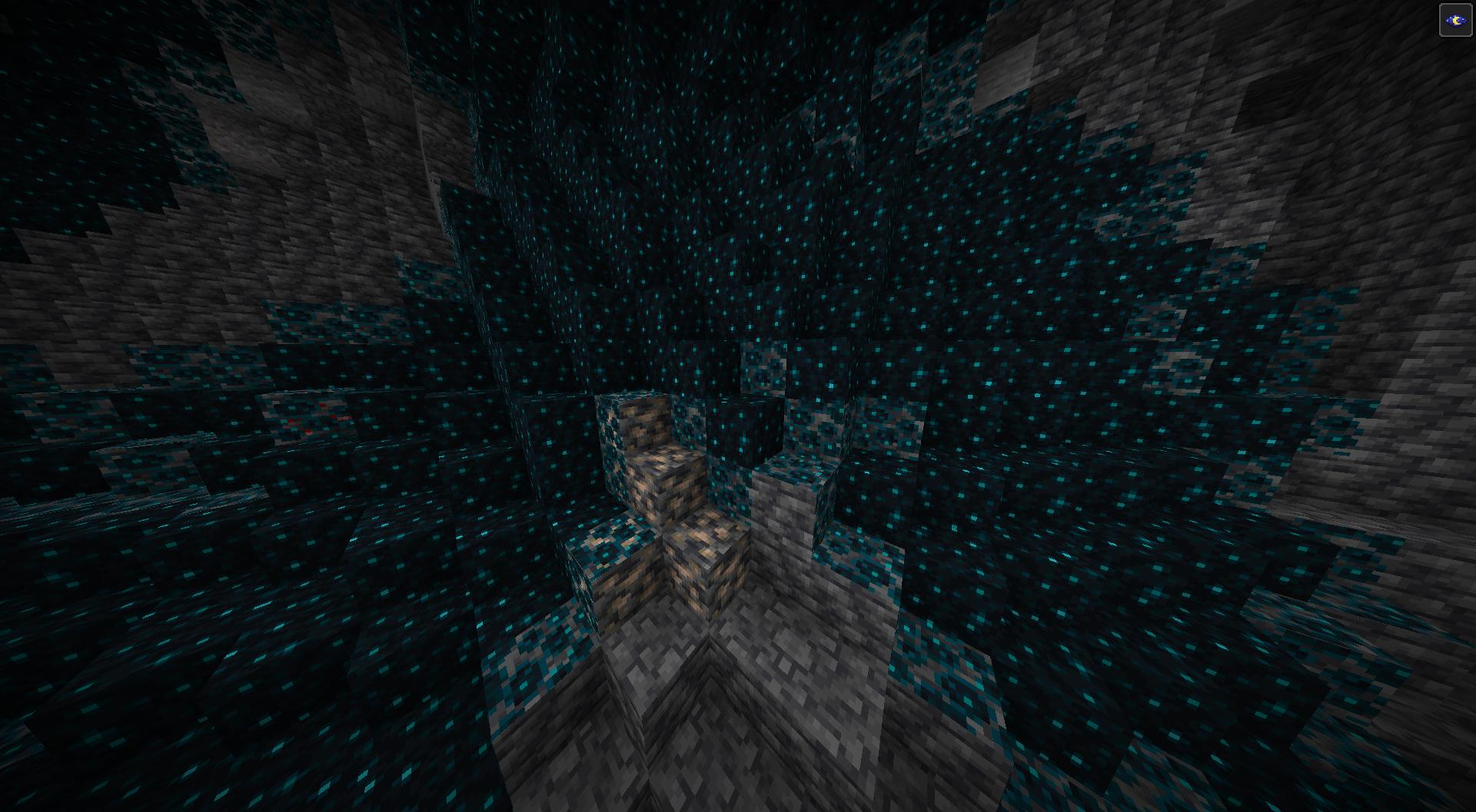iron ore: (671, 508, 751, 612), (634, 448, 705, 521), (601, 551, 662, 608), (622, 396, 672, 448)
